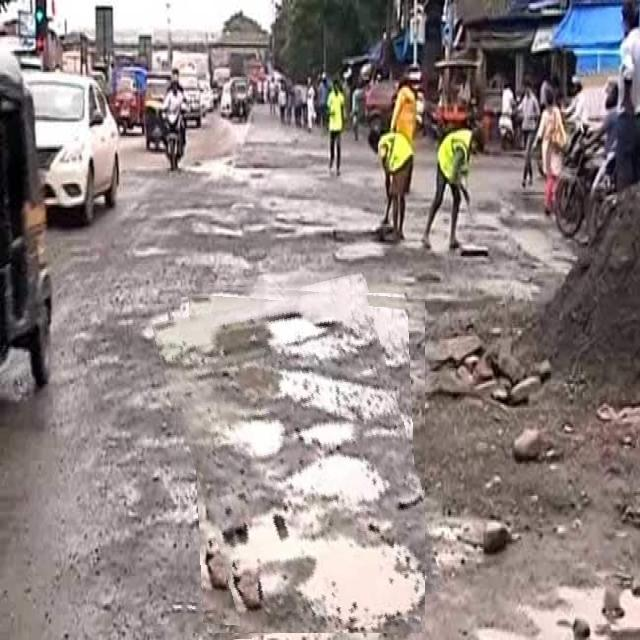Pothole: (170, 282, 425, 633)
